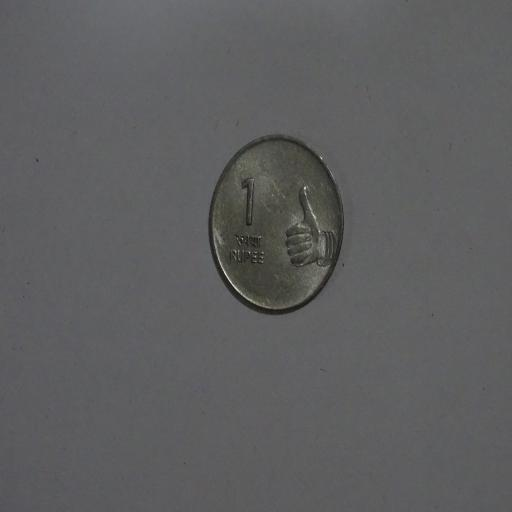rupee1: (208, 135, 345, 314)
